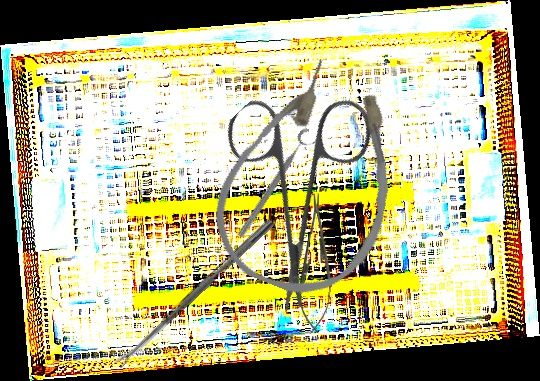Cannula: (194, 43, 433, 315)
Fixation Ring: (234, 126, 321, 244)
Iris Scissors: (164, 48, 433, 317)
Needle Holder: (297, 192, 335, 334)
Surgical Spoon: (113, 217, 276, 369)
